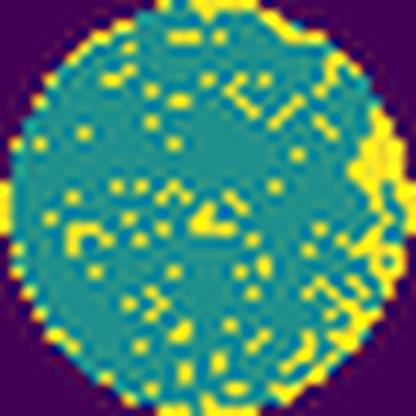Edge-Loc: (344, 90, 415, 306), (299, 269, 394, 363), (183, 0, 337, 48)
